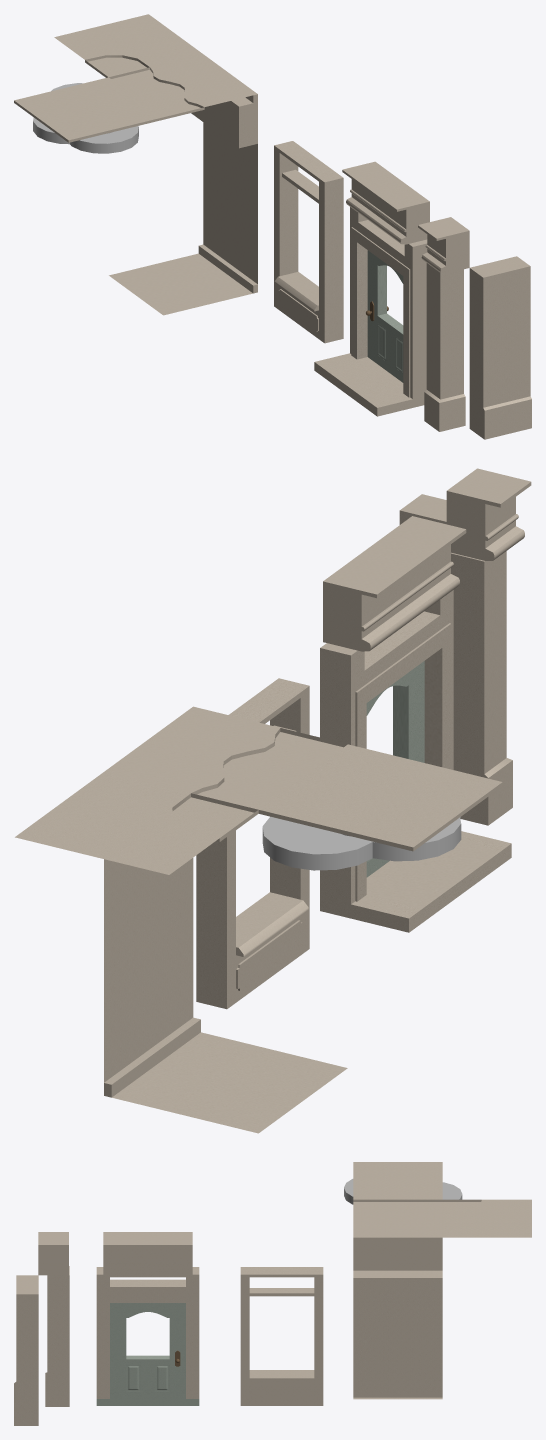
The model's file is modular assets.fbx.
The picture shows the model from 3 angles, top to bottom: view 1: azimuth 30°, elevation 25°; view 2: azimuth 150°, elevation 25°; view 3: azimuth 270°, elevation 25°; orthographic projection. The views are drawn at different scales.
Parts seen in each view (by area): view 1: Doorway, Exterior_Wall, Exterior_Window_Wall, Interior_Wall, Ceiling_Cloud, Exterior_Pillar, Ceiling_Corner, Ceiling, Floor, Roof_Part, Door, Roof_Part1; view 2: Doorway, Ceiling_Cloud, Interior_Wall, Exterior_Window_Wall, Ceiling, Ceiling_Corner, Exterior_Pillar, Floor, Roof_Part, Roof_Part1, Door, Exterior_Wall; view 3: Interior_Wall, Doorway, Exterior_Window_Wall, Door, Ceiling_Cloud, Roof_Part, Exterior_Wall, Ceiling_Corner, Ceiling, Exterior_Pillar, Roof_Part1.
Part boxes in pixels (<box>): Doorway: <box>314,207,427,416</box>; Exterior_Wall: <box>469,256,531,439</box>; Exterior_Window_Wall: <box>274,141,343,343</box>; Interior_Wall: <box>191,54,257,293</box>; Ceiling_Cloud: <box>14,77,163,153</box>; Exterior_Pillar: <box>424,263,465,431</box>; Ceiling_Corner: <box>54,14,202,78</box>; Ceiling: <box>109,54,256,119</box>; Floor: <box>109,253,252,315</box>; Roof_Part: <box>342,161,429,244</box>; Door: <box>366,250,403,382</box>; Roof_Part1: <box>418,217,469,273</box>; Doorway: <box>320,590,511,932</box>; Ceiling_Cloud: <box>258,744,502,870</box>; Interior_Wall: <box>104,706,200,1097</box>; Exterior_Window_Wall: <box>196,678,309,1009</box>; Ceiling: <box>104,707,347,812</box>; Ceiling_Corner: <box>15,772,258,874</box>; Exterior_Pillar: <box>451,551,512,825</box>; Floor: <box>112,1032,347,1133</box>; Roof_Part: <box>323,516,466,651</box>; Roof_Part1: <box>446,468,531,560</box>; Door: <box>366,661,424,877</box>; Exterior_Wall: <box>399,494,446,524</box>; Interior_Wall: <box>353,1235,442,1397</box>; Doorway: <box>96,1267,199,1405</box>; Exterior_Window_Wall: <box>240,1267,323,1405</box>; Door: <box>110,1303,185,1398</box>; Ceiling_Cloud: <box>344,1162,462,1204</box>; Roof_Part: <box>103,1232,192,1275</box>; Exterior_Wall: <box>14,1275,38,1425</box>; Ceiling_Corner: <box>442,1199,531,1237</box>; Ceiling: <box>353,1199,442,1237</box>; Exterior_Pillar: <box>45,1266,69,1406</box>; Roof_Part1: <box>38,1232,68,1275</box>.
Size of the model in its own units: 5.41 by 4 by 11.6.
